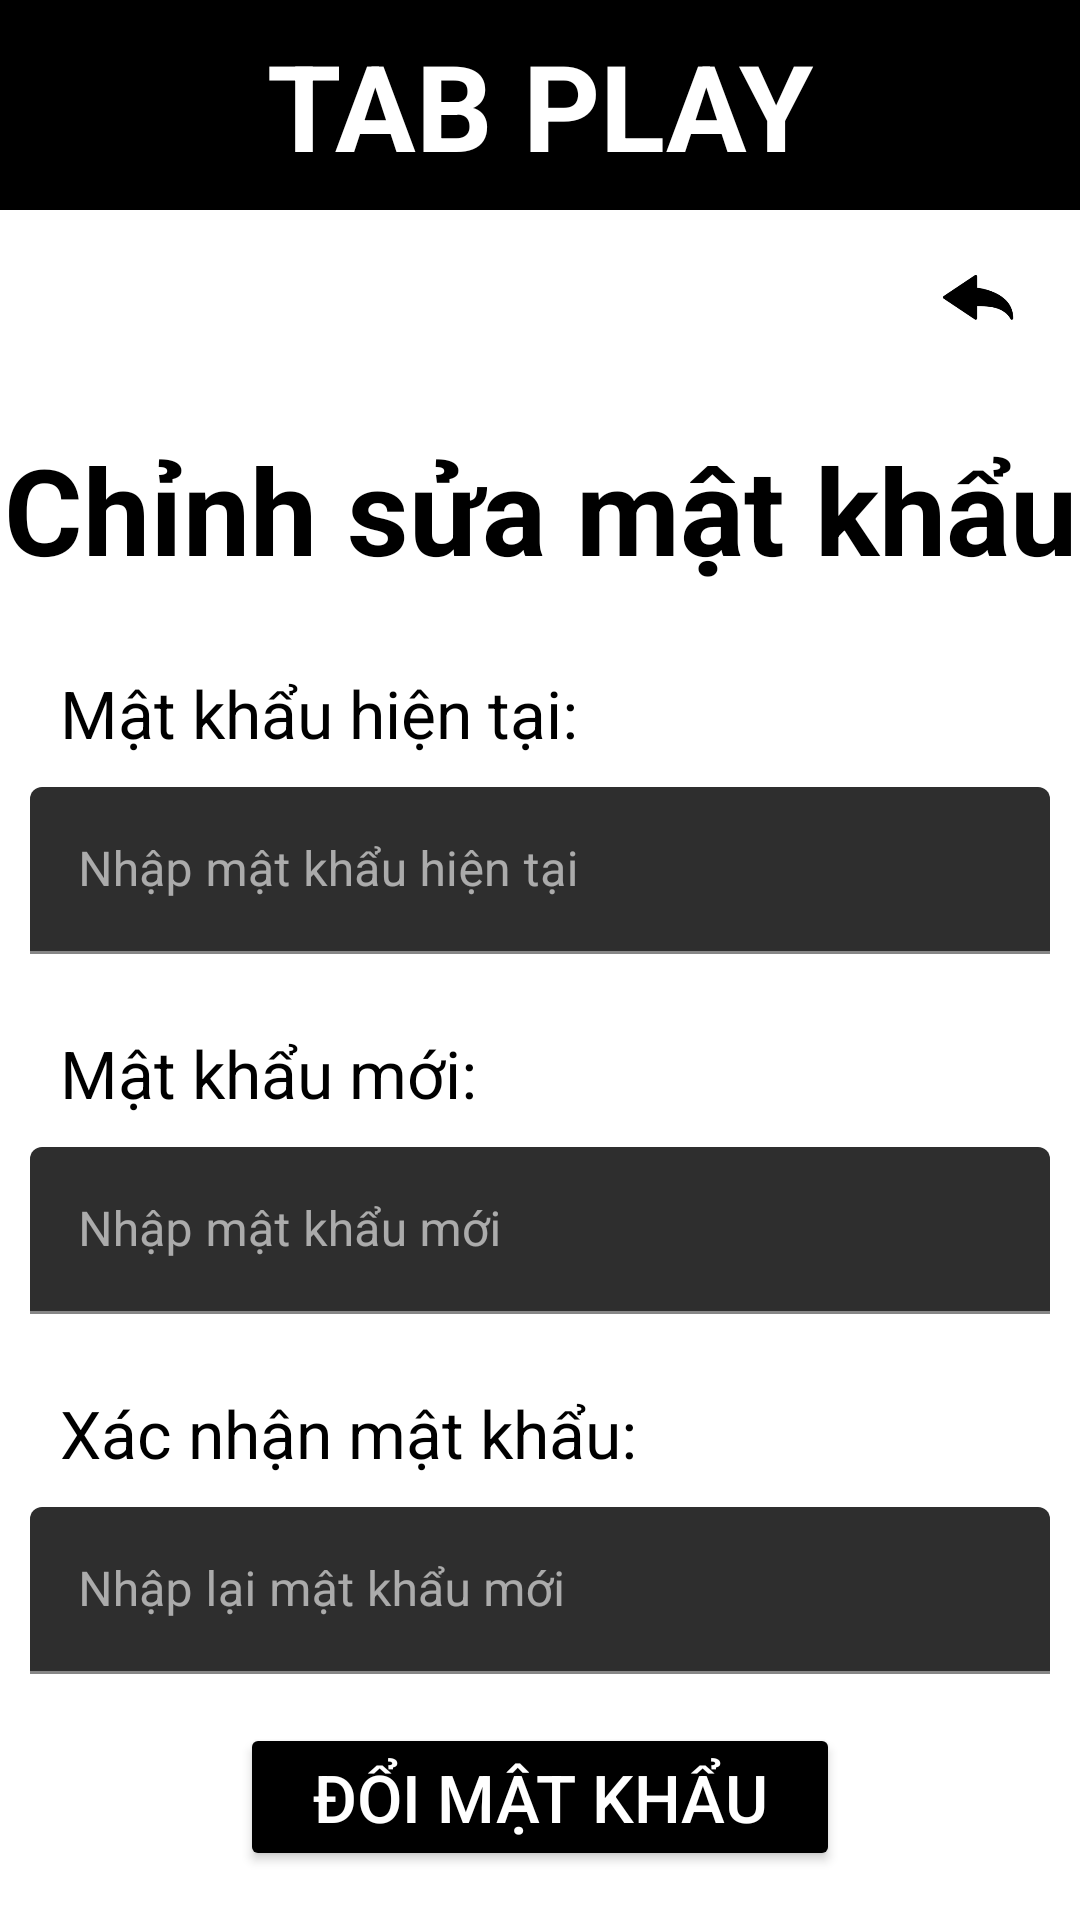

Point at icon controls on the screen. Image size 1080 × 1920, points as point (x, y).
back: point (978, 297)
